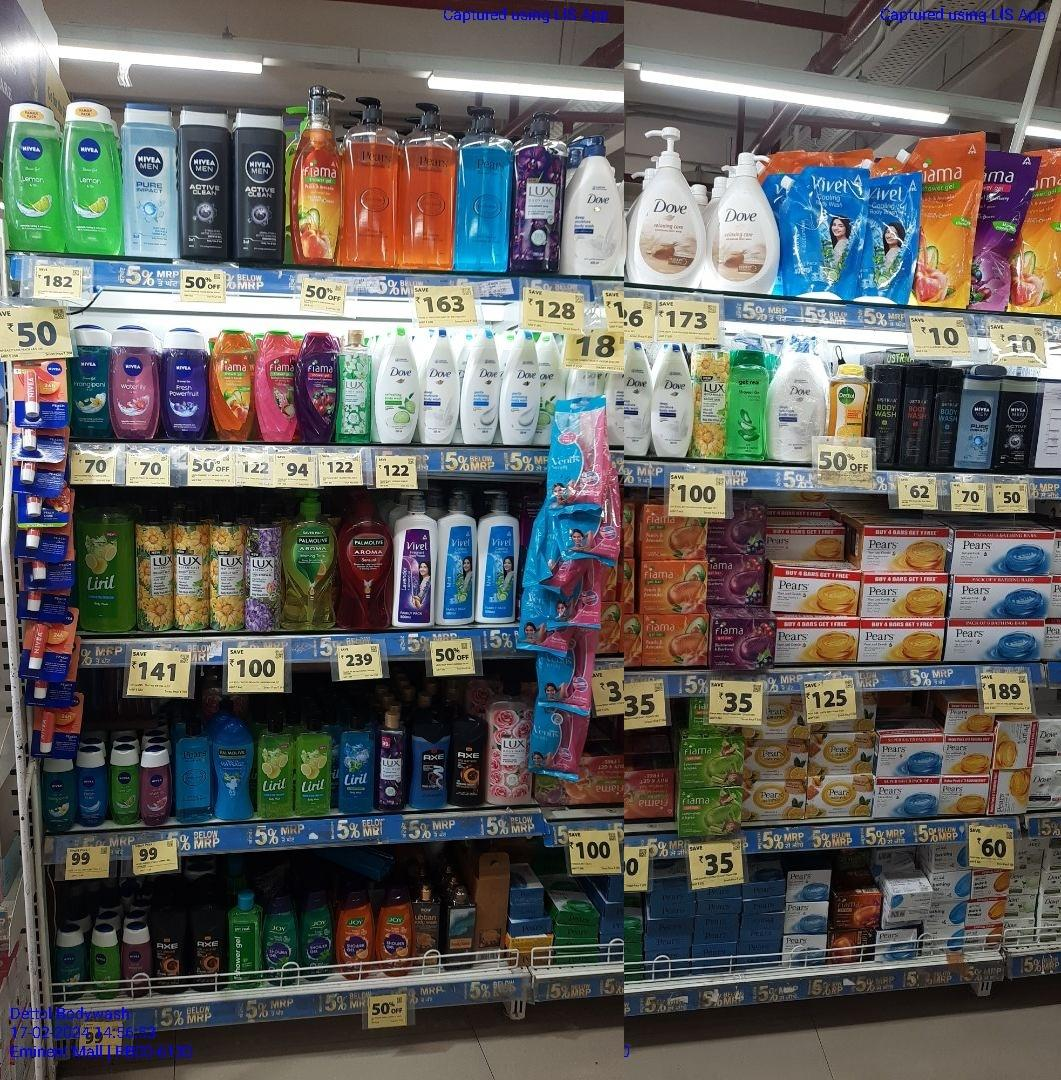Dettol_Bodywash_Refresh: (828, 364, 867, 438)
Dove_Deep_Moisture_Body_Wash_250ML: (421, 329, 461, 445), (657, 347, 692, 456), (624, 342, 653, 458)
Dove_Gentle_Exfoliating_Body_Wash_250ML: (463, 331, 501, 446), (503, 331, 540, 446)
Dove_Refreshing_Body_Wash_250ML: (378, 329, 419, 442)
Fiama_Shower_Gel_Patchouli_and_Macadamia_250ML: (256, 331, 296, 445)
Fiama_Shower_Gel_Peach_and_Avocado_250ML: (212, 331, 254, 442)
Joy_Shower_Gel_Mandarin_and_Lemongrass_250ML: (337, 895, 371, 980), (375, 890, 410, 972)
Joy_Shower_Gel_Mint_and_Eucalyptus_250ML: (263, 896, 301, 986), (303, 891, 333, 977)
Liril_Cooling_Mint_Body_Wash_250ML: (337, 712, 377, 815)
Liril_Lime_and_Tea_Tree_Oil_Body_Wash_250ML: (257, 716, 292, 816), (296, 716, 330, 814)
Lux_Black_Orchid_Scent_and_Juniper_Oil_Body_Wash_245ML: (337, 329, 374, 448), (378, 704, 406, 812)
Nivea_Shower_Gel_Frangipani_and_Oil_250ML: (70, 323, 114, 437)
Nivea_Shower_Gel_Fresh_Powerfruit_250ML: (164, 323, 210, 442)
Nivea_Shower_Gel_Lemon_and_Oil_250ML: (63, 103, 121, 258), (3, 98, 59, 254)
Nivea_Shower_Gel_Waterlily_and_Oil_250ML: (114, 327, 157, 440)
Palmolive_Aroma_Moments_Feel_The_Massage_Shower_Gel_250ML: (215, 719, 252, 818)
Pears_Pure_Glycerin_and_Mint_Extracts_Body_Wash_250ML: (174, 723, 214, 820)
